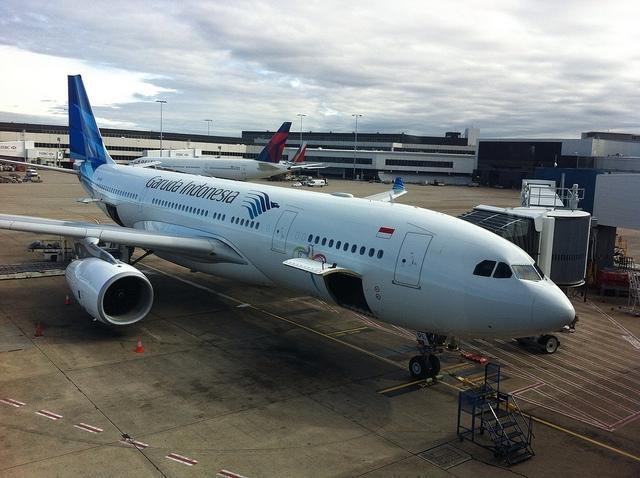car: (26, 169, 38, 177), (292, 182, 302, 187)
